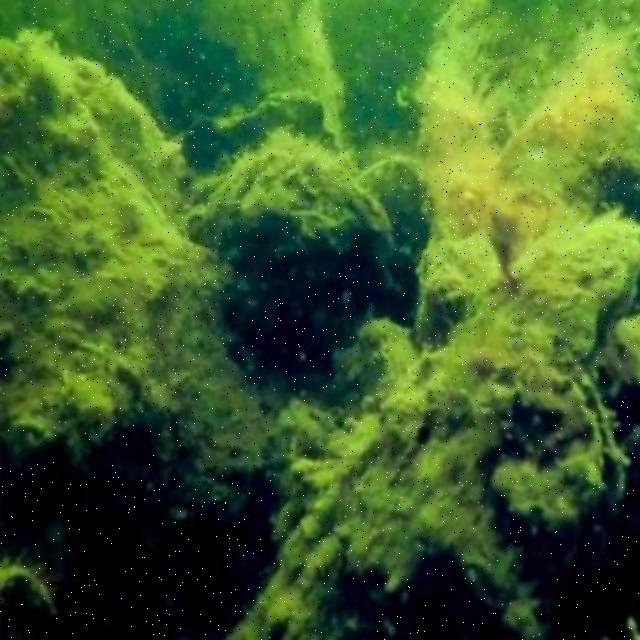Oyster-Closed: (226, 311, 626, 640), (0, 35, 257, 532), (185, 141, 406, 377), (51, 45, 180, 213), (508, 227, 637, 361), (174, 98, 336, 181), (358, 163, 438, 325), (409, 236, 515, 348)
